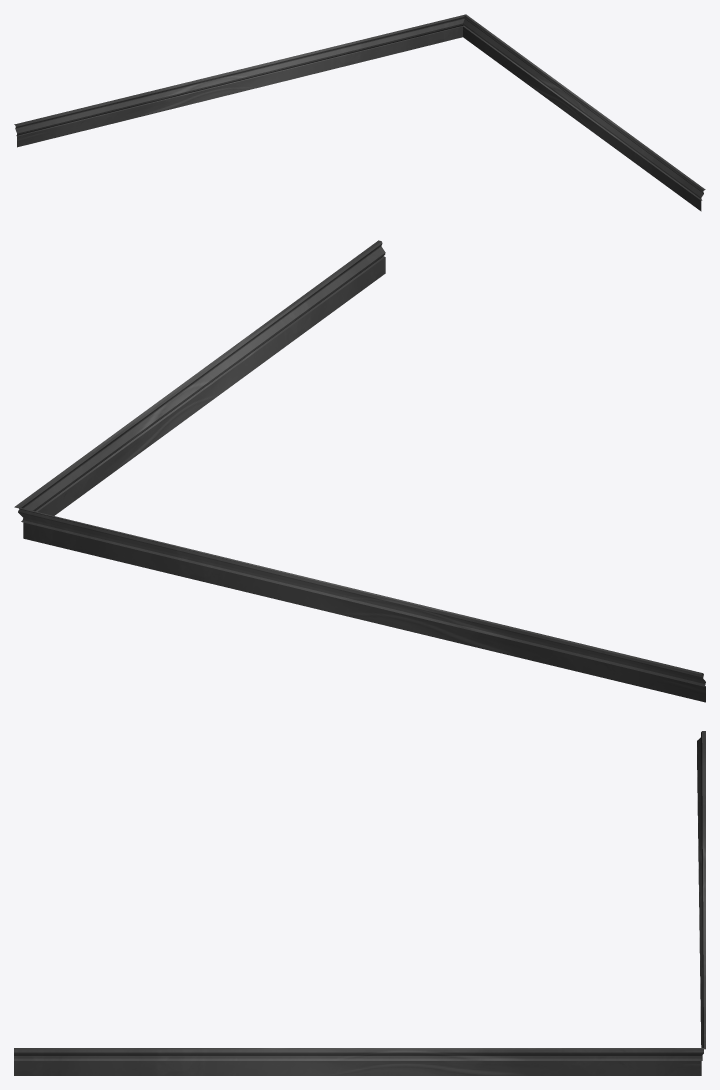
Rendered from SM_Trim_bottom.fbx.
3 renders of one model, top to bottom at view 1: azimuth 30°, elevation 25°; view 2: azimuth 150°, elevation 25°; view 3: azimuth 270°, elevation 25°, orthographic. The views are drawn at different scales.
Visible parts, largest first — view 1: SM_Trim_bottom; view 2: SM_Trim_bottom; view 3: SM_Trim_bottom.
Part boxes in pixels (x1,y1,x2,y2): SM_Trim_bottom: (14,14,705,211); SM_Trim_bottom: (14,240,705,702); SM_Trim_bottom: (14,731,705,1075).
Size of the model in its own units: 895 by 39.25 by 822.
